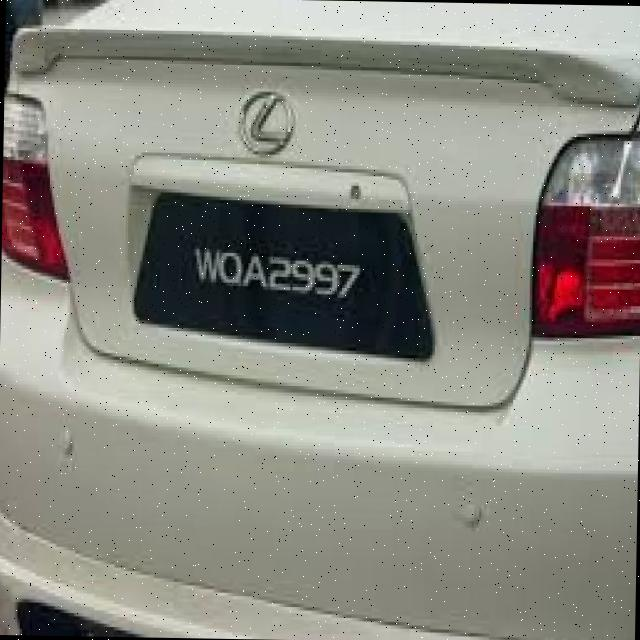License_Plate: (133, 190, 439, 364)
